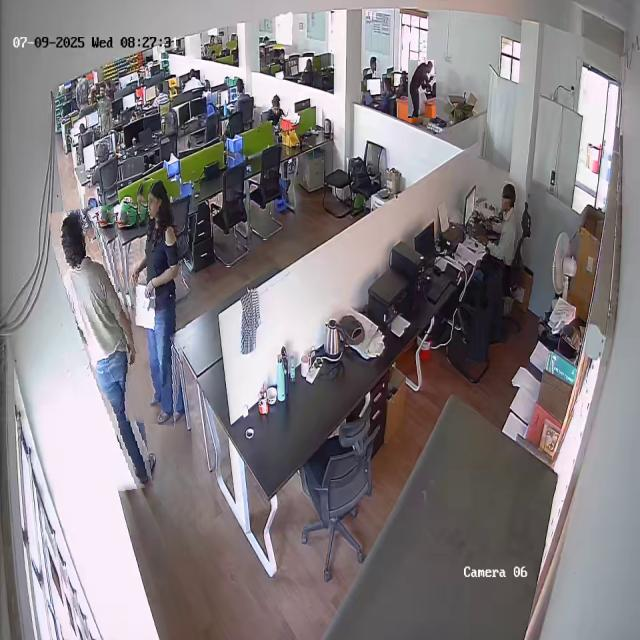person: (58, 206, 144, 494), (125, 180, 194, 426), (476, 180, 525, 299), (408, 60, 436, 118), (261, 93, 291, 136)
